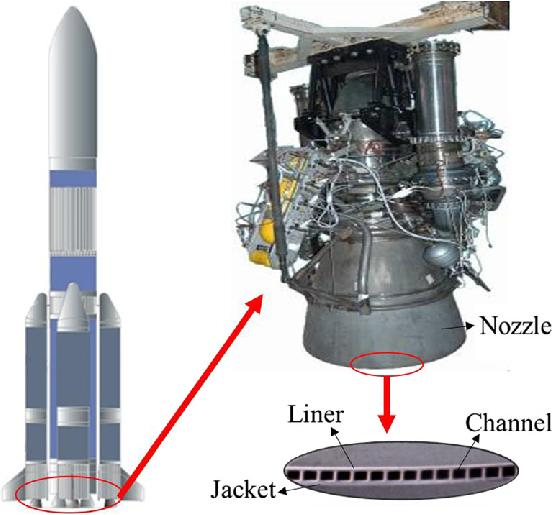thruster: (298, 290, 470, 371), (24, 499, 44, 511), (49, 497, 66, 511), (81, 495, 97, 509), (103, 498, 119, 511), (66, 498, 80, 510)
